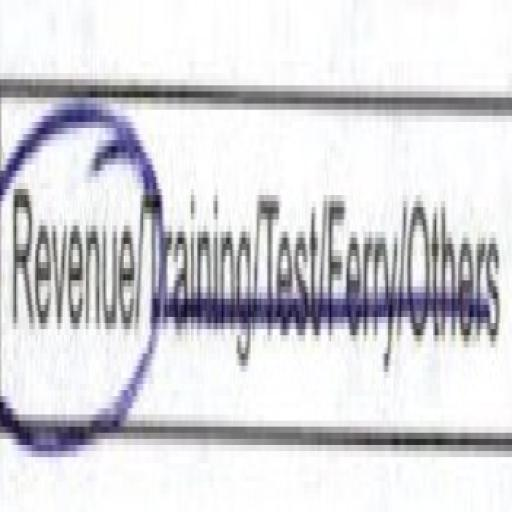check: (5, 76, 144, 492)
